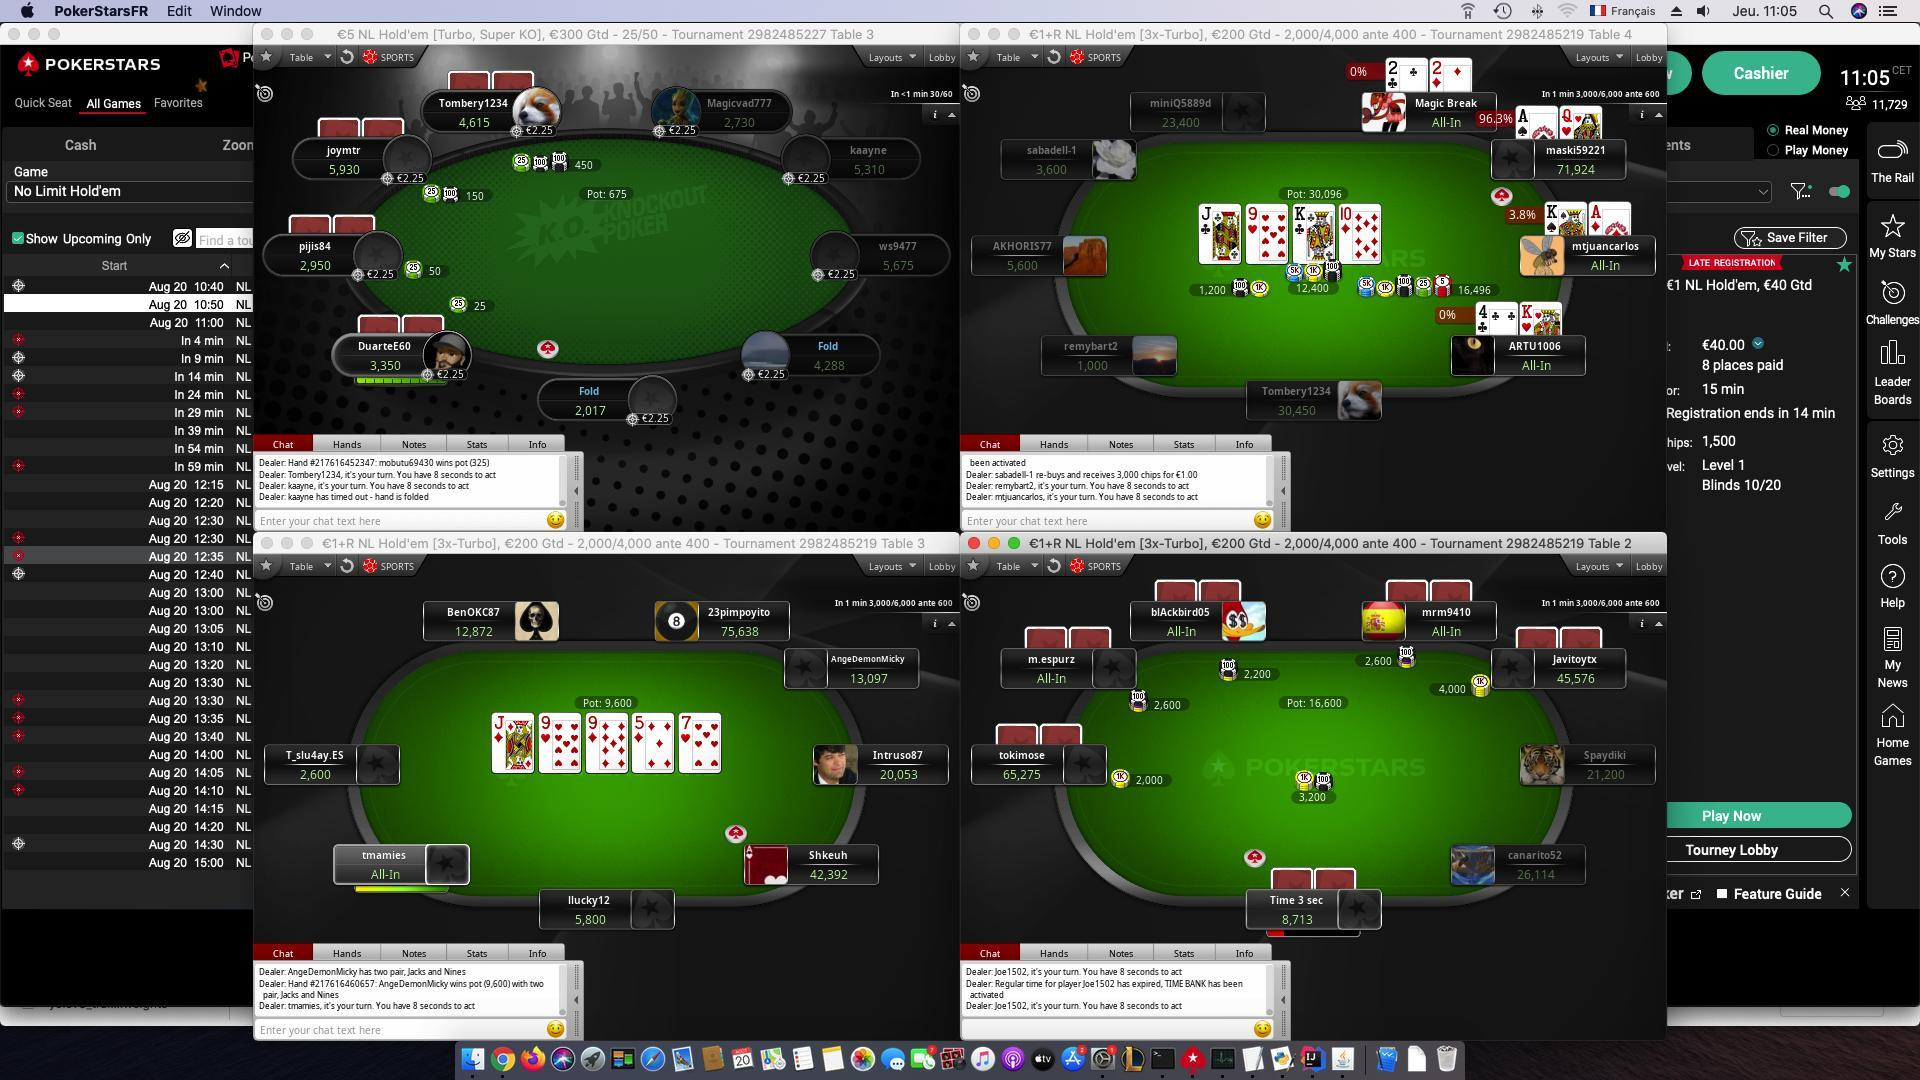10D: (1335, 198, 1358, 236)
2C: (1385, 55, 1404, 94)
2D: (1425, 55, 1451, 91)
4C: (1476, 302, 1495, 334)
5D: (628, 711, 651, 749)
7H: (678, 708, 699, 749)
9D: (583, 711, 603, 746)
9H: (1245, 199, 1266, 233), (539, 712, 558, 744)
AD: (1592, 200, 1605, 235)
AS: (1513, 104, 1534, 137)
JC: (1196, 200, 1215, 235)
JD: (488, 707, 506, 745)
KC: (1291, 203, 1313, 235)
KH: (1514, 301, 1538, 331)
KS: (1543, 200, 1567, 232)
QH: (1561, 99, 1577, 135)
